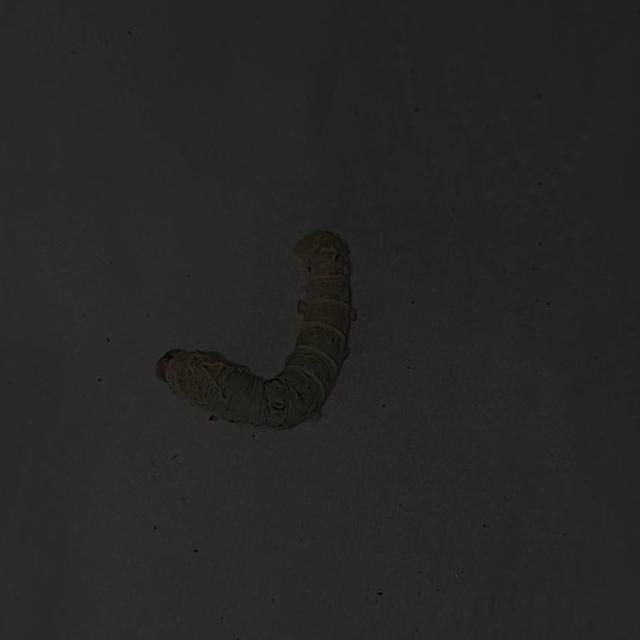Healthy: (140, 226, 377, 442)
